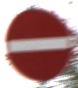No entry: (7, 7, 71, 80)
